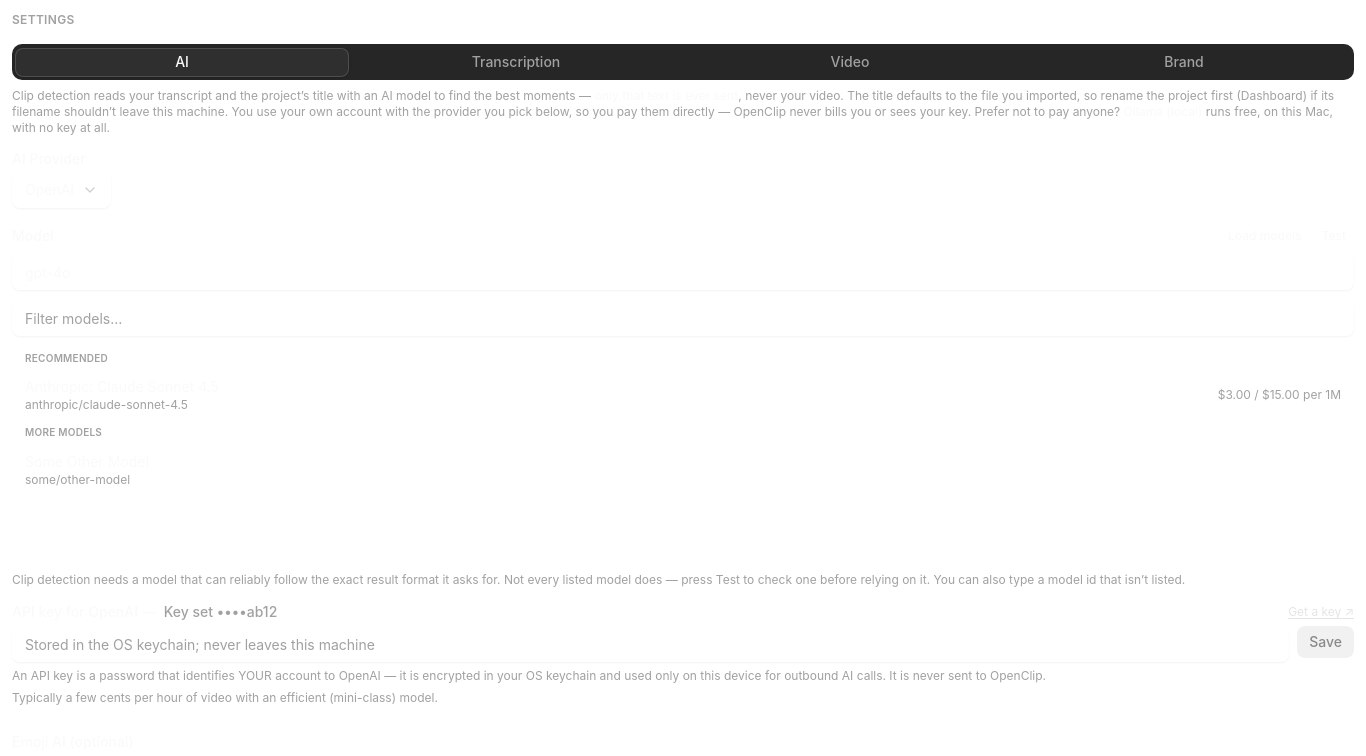
Test: SettingsPanel: three tabs, nothing lost in the split › reaches the transcription language picker via its tab
Click the tab with test id "settings-tab-transcription" at (516, 62), box [349, 48, 683, 76]
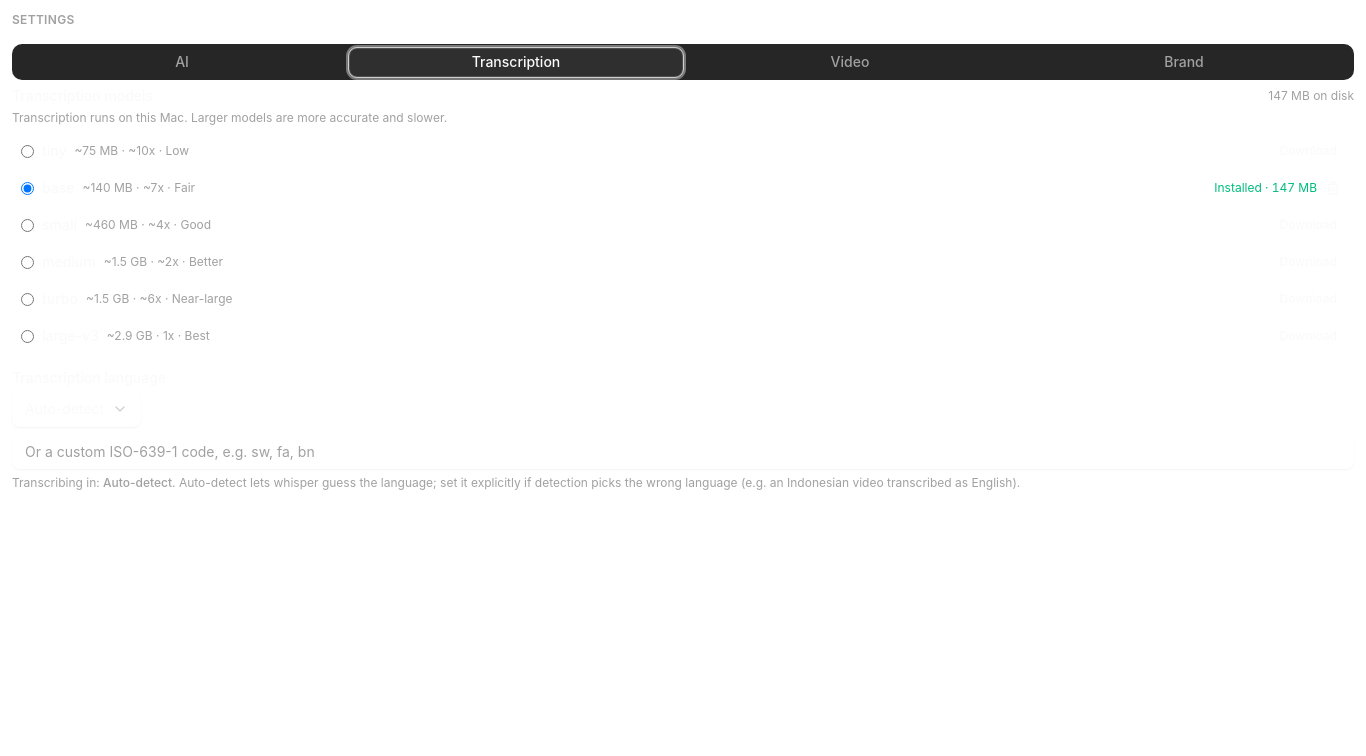
Result: the element with test id "language-picker" is shown at [12, 371, 1354, 491]
